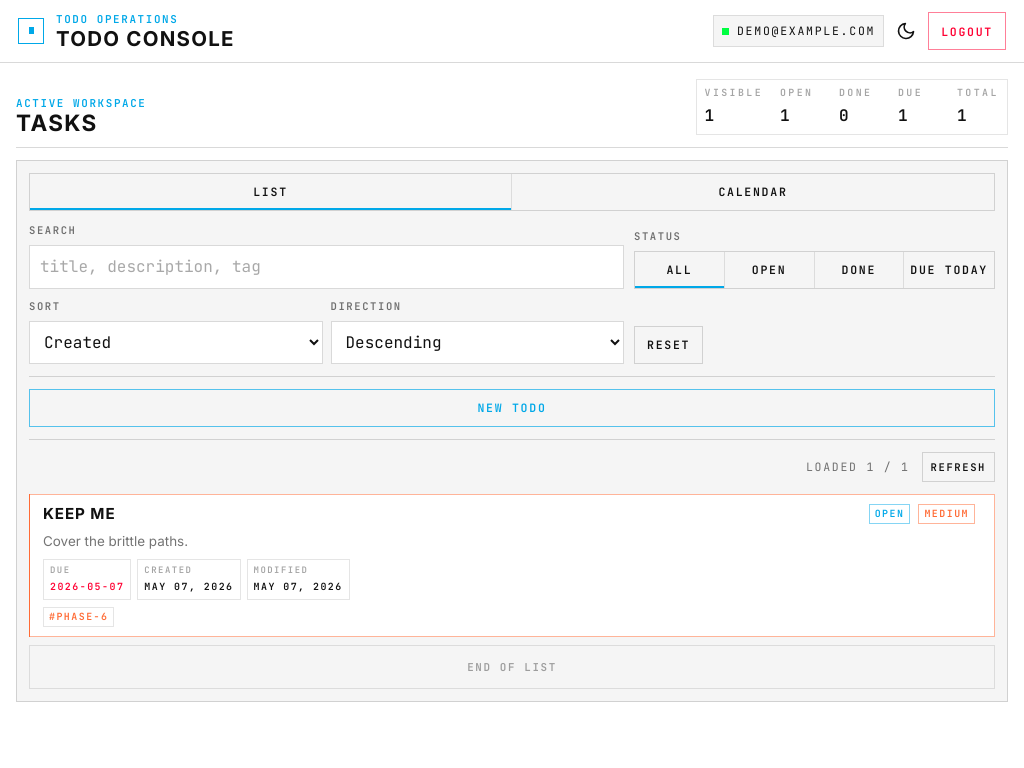
Scenario: todos UI › DeleteFails_RowStays_ToastShown
Expected: the heading "Keep me" is shown, [43,504,116,523]
Click the list item at [512, 566], box [29,494,995,638]
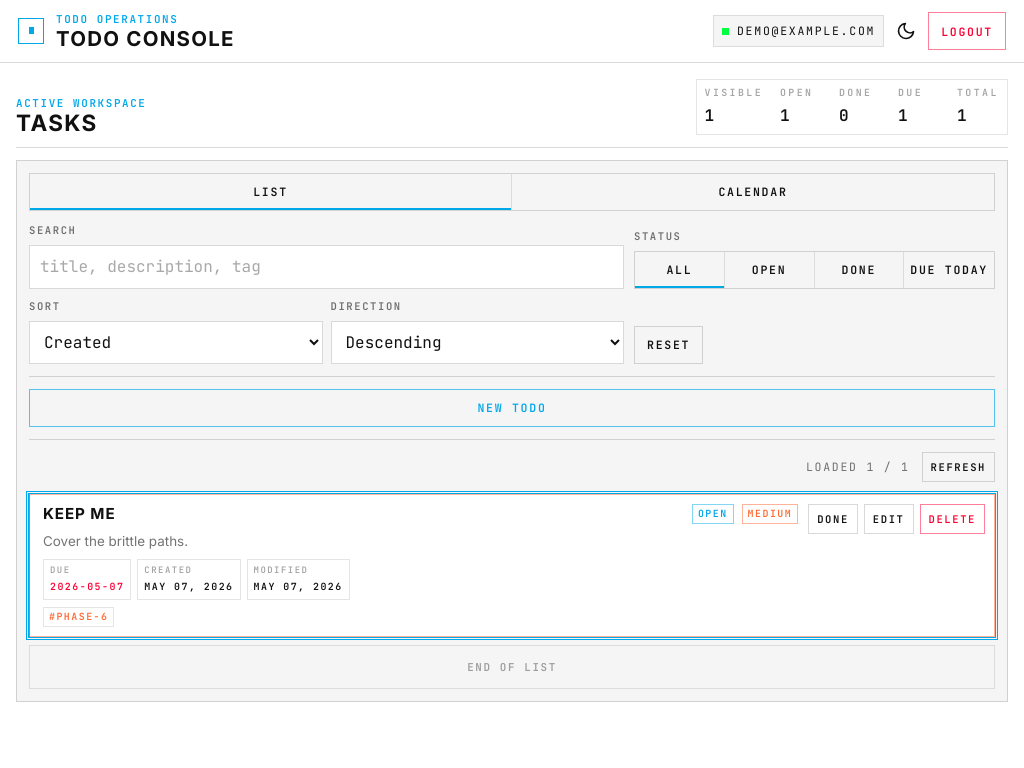
Click the button "Delete" at [952, 519], box [920,504,985,534]
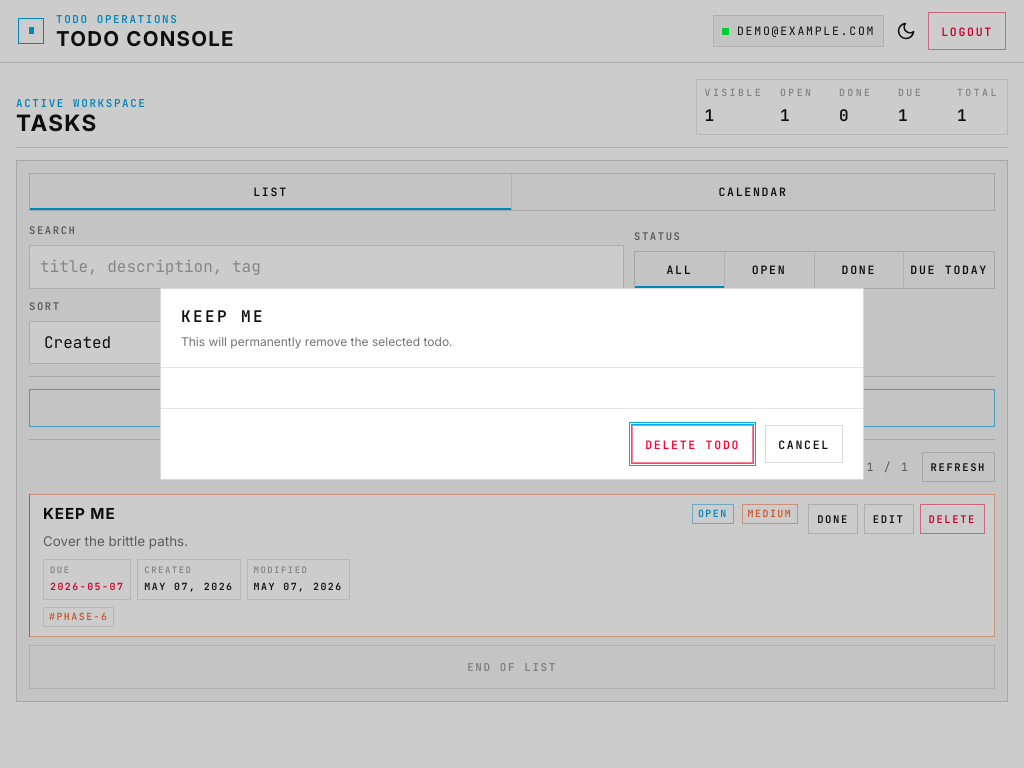
Click the button with test id "todo-delete-confirm" at [693, 444], box [632,425,753,463]
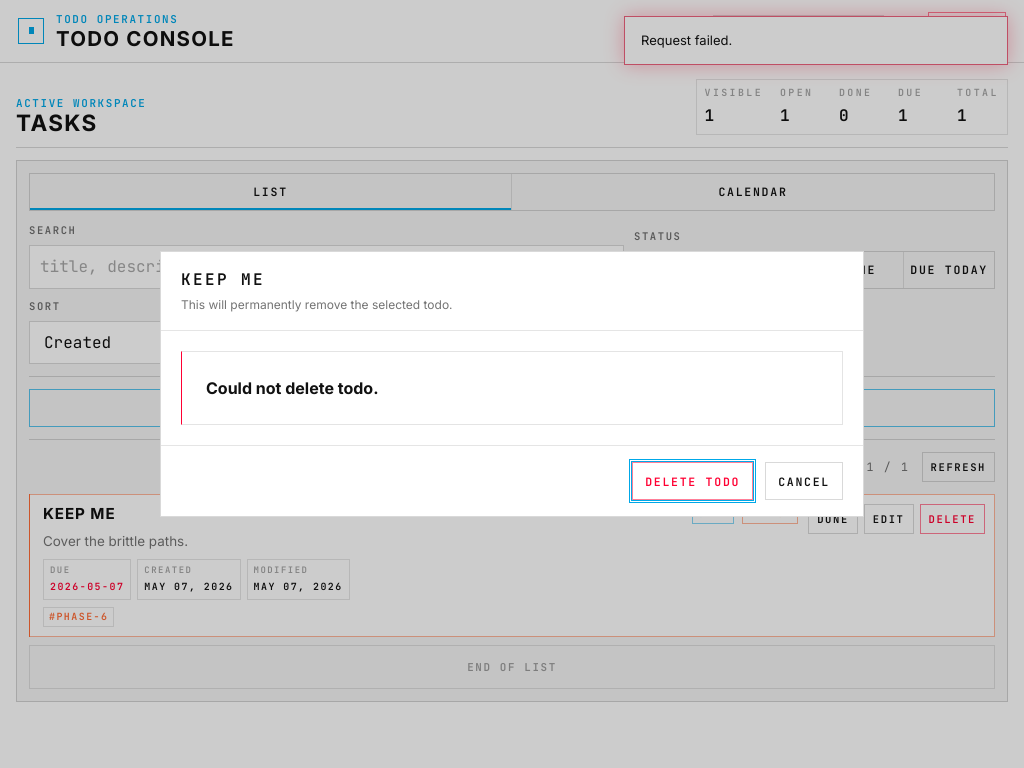
Expected: the heading "Keep me" in the row of "Medium" is shown, [43,504,116,523]
Expected: the text "Request failed." is shown, [624,16,1008,65]
